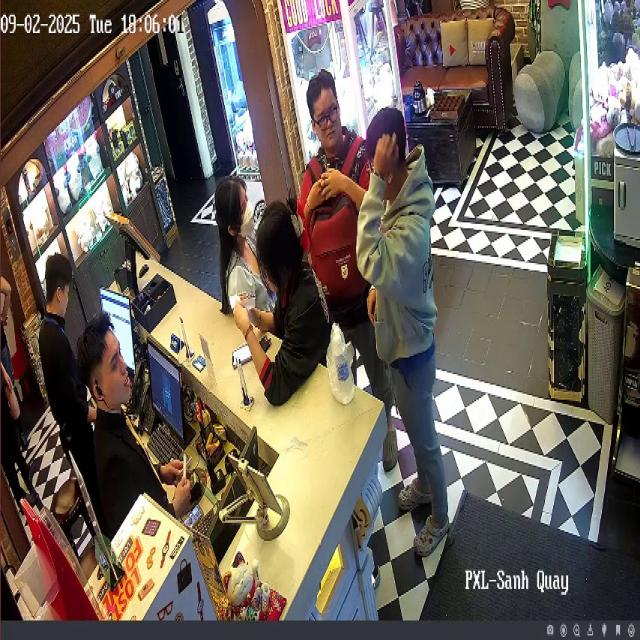khach: (362, 112, 456, 562), (228, 191, 340, 469), (297, 58, 381, 382), (200, 138, 276, 372)
nhan vien: (72, 286, 212, 545), (32, 242, 102, 496)
